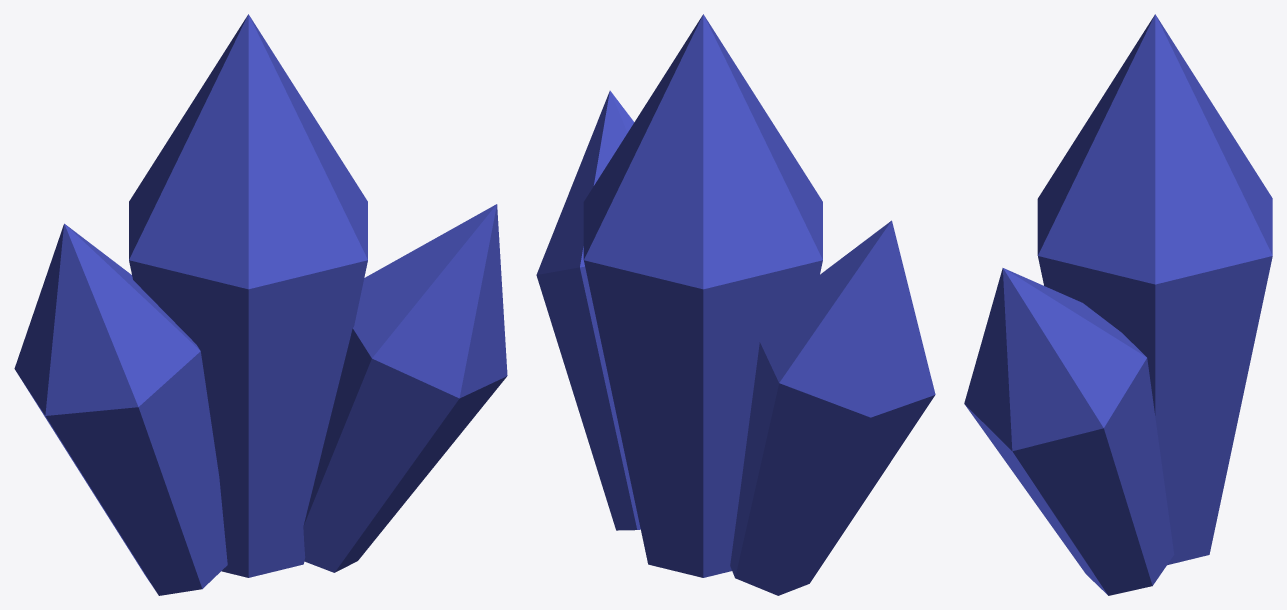
File: Gem_05.fbx
3 renders of one model, left to right at view 1: azimuth 30°, elevation 25°; view 2: azimuth 150°, elevation 25°; view 3: azimuth 270°, elevation 25°, orthographic.
Parts seen in each view (by area): view 1: Gem_05; view 2: Gem_05; view 3: Gem_05.
Part boxes in pixels (x1,y1,x2,y2): Gem_05: [14, 14, 507, 595]; Gem_05: [536, 14, 935, 595]; Gem_05: [964, 14, 1272, 595].
Bounding box in the file's own units: 0.1097 × 0.1409 × 0.0726.
